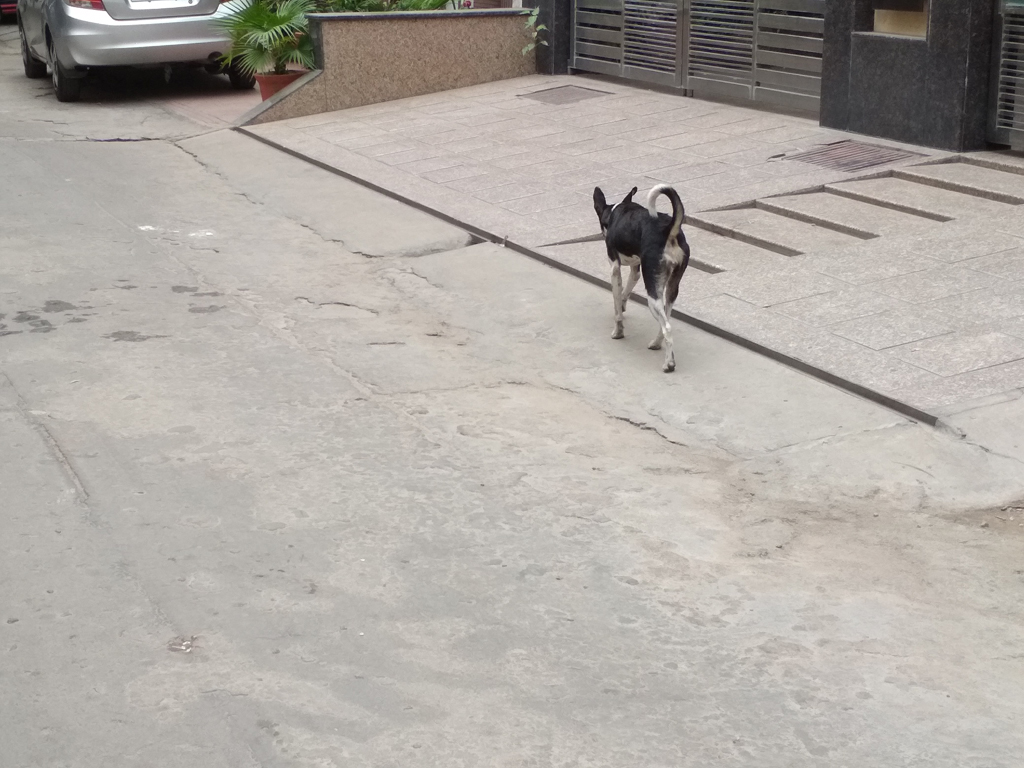dog: (593, 182, 691, 373)
